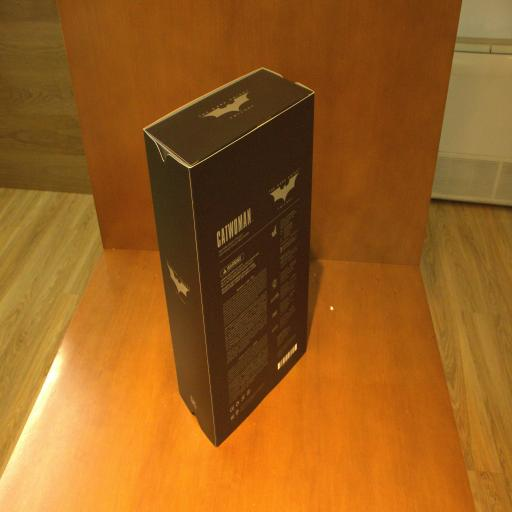catwoman: (143, 67, 315, 447)
